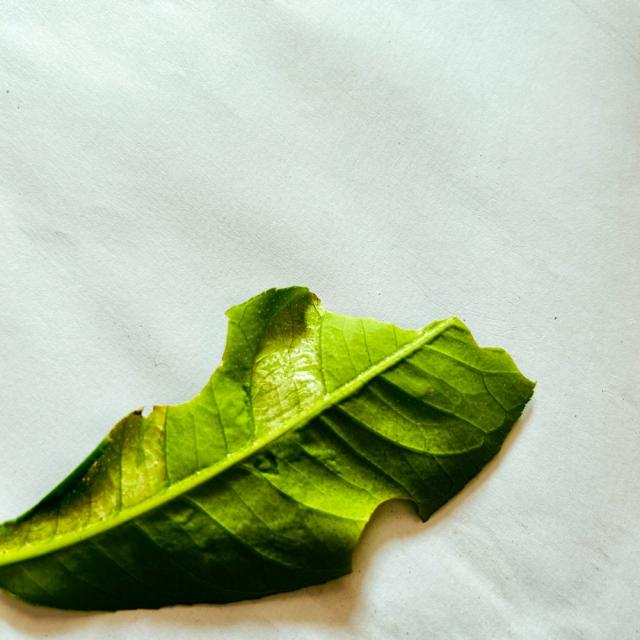Deficiency Leaf: (306, 243, 501, 340), (131, 316, 227, 407), (351, 499, 424, 580)
Lemon: (0, 286, 534, 610)
